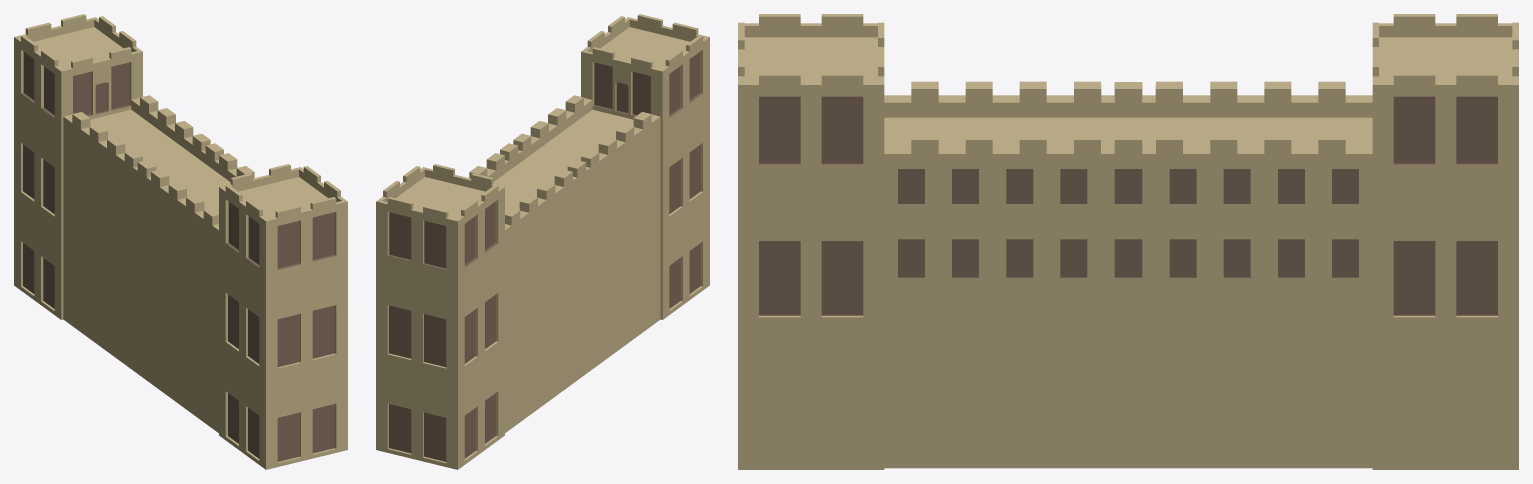
File: sur.fbx
3 views of the same model, side by side, from view 1: azimuth 30°, elevation 25°; view 2: azimuth 150°, elevation 25°; view 3: azimuth 270°, elevation 25° (orthographic). The views are drawn at different scales.
Parts seen in each view (by area): view 1: sur.002; view 2: sur.002; view 3: sur.002.
Part boxes in pixels (bbox=[...]): sur.002: bbox=[14, 14, 347, 469]; sur.002: bbox=[376, 14, 709, 469]; sur.002: bbox=[738, 14, 1518, 469].
Bounding box in the file's own units: 822 × 2446 × 4389.
